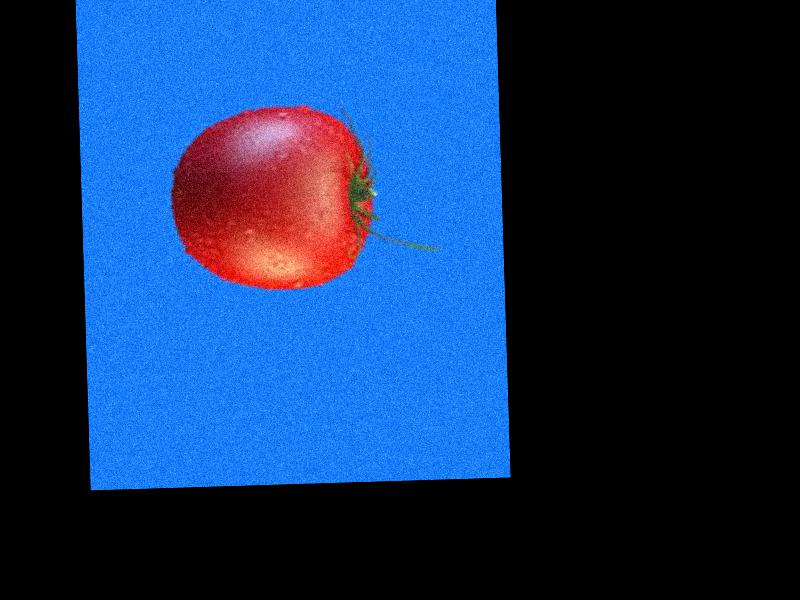Tomato: (168, 102, 376, 293)
